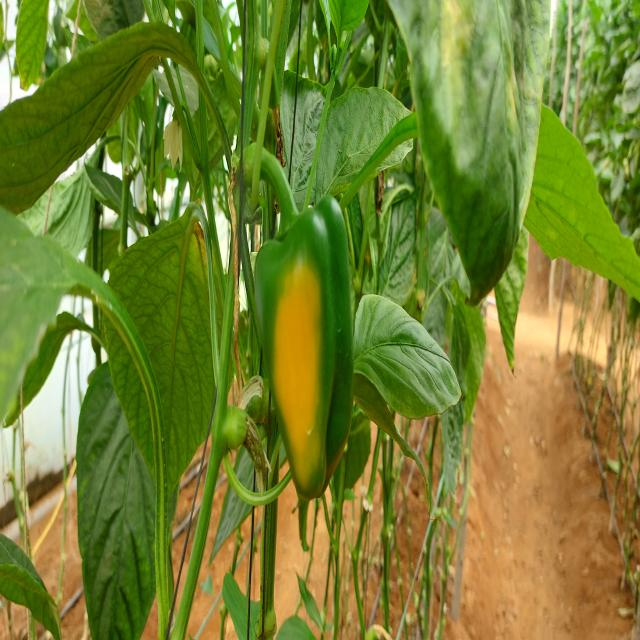GreenishYellow--Can-be-Harvested: (238, 184, 374, 513)
